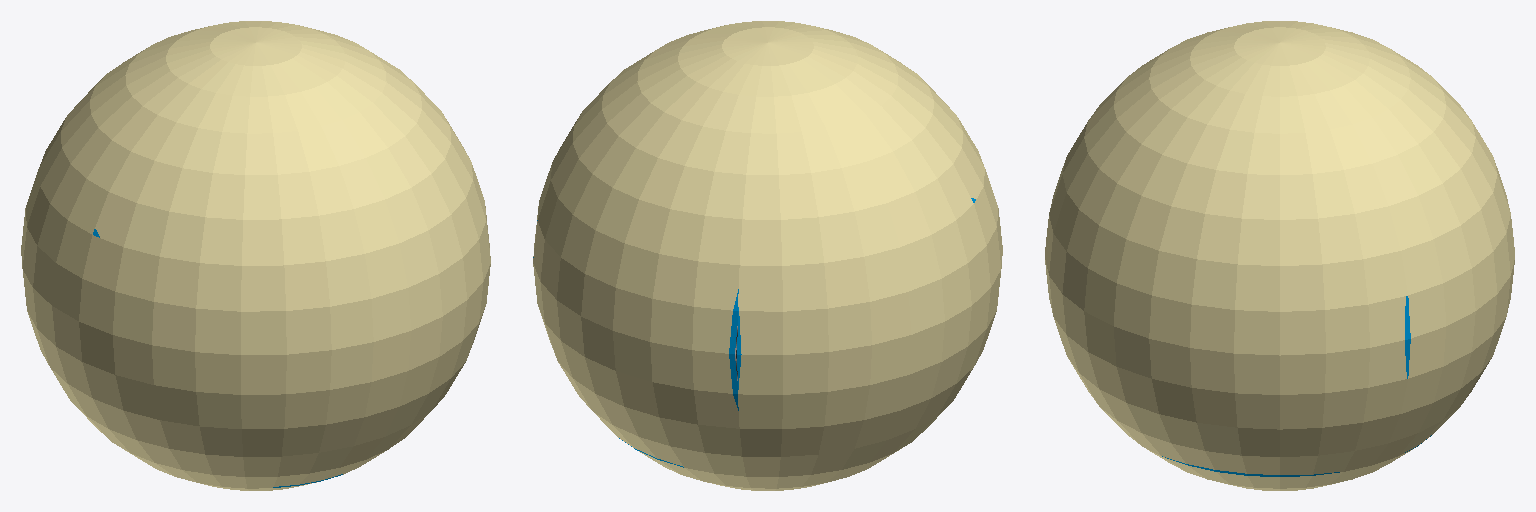
3 views of the same model, side by side, from view 1: azimuth 30°, elevation 25°; view 2: azimuth 150°, elevation 25°; view 3: azimuth 270°, elevation 25° (orthographic).
Visible parts, largest first — view 1: Sphere; view 2: Sphere; view 3: Sphere.
Part boxes in pixels (bbox=[...]): Sphere: bbox=[21, 21, 490, 490]; Sphere: bbox=[533, 21, 1002, 490]; Sphere: bbox=[1045, 21, 1514, 490].
Bounding box in the file's own units: 5.41 × 5.41 × 5.41.
Materials: 1 (1 with a texture image).